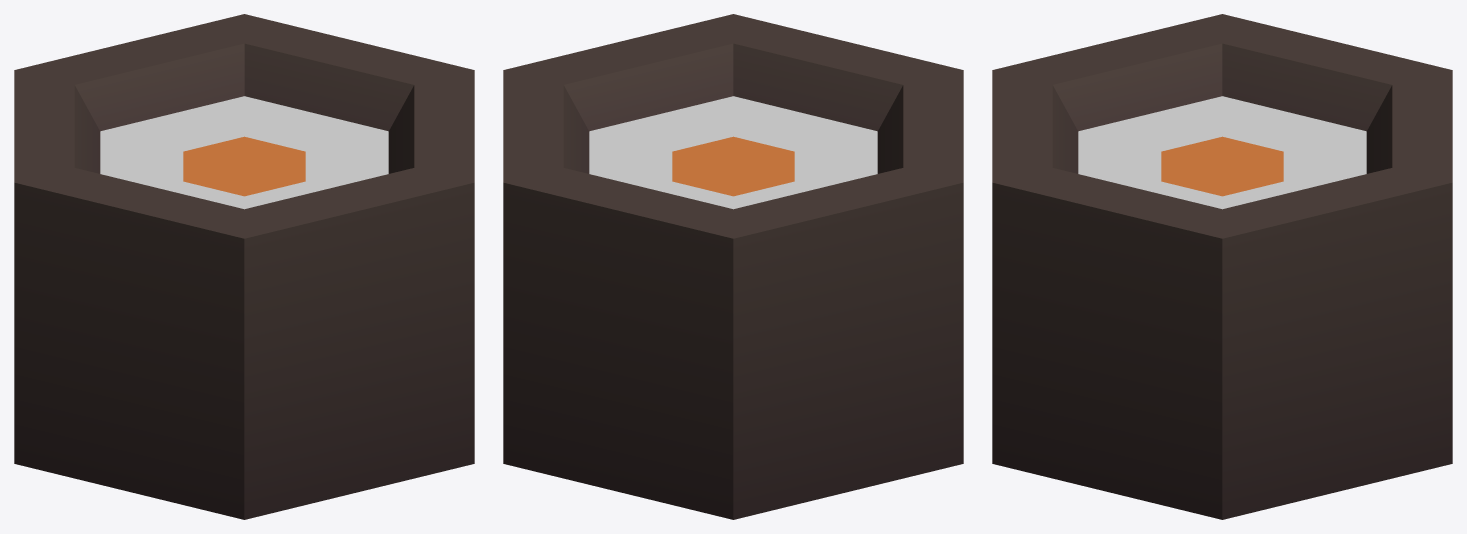
File: maki-salmon.glb
3 views of the same model, side by side, from view 1: azimuth 30°, elevation 25°; view 2: azimuth 150°, elevation 25°; view 3: azimuth 270°, elevation 25° (orthographic).
Visible parts, largest first — view 1: geometry_0; view 2: geometry_0; view 3: geometry_0.
Boxes of the visible parts, x1,y1,x2,y2 form: geometry_0: (14, 14, 474, 519); geometry_0: (503, 14, 963, 519); geometry_0: (992, 14, 1452, 519).
Bounding box in the file's own units: 1.07 × 0.6242 × 0.9266.
